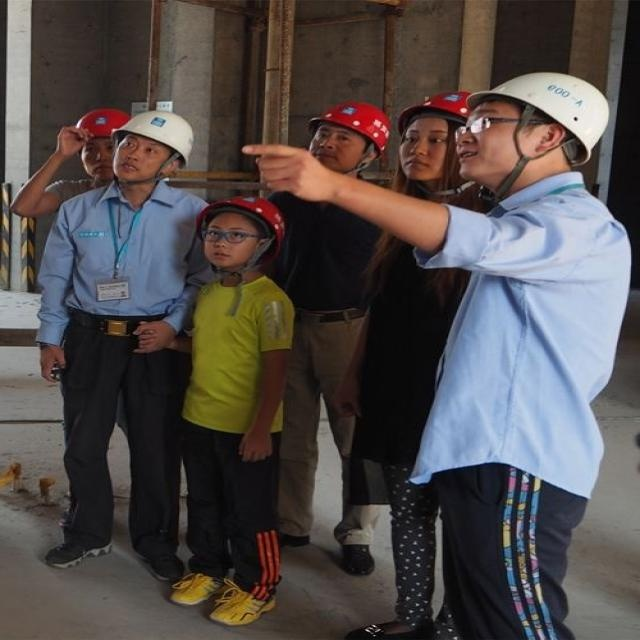Con_Casco: (206, 195, 289, 273), (107, 114, 196, 182)
